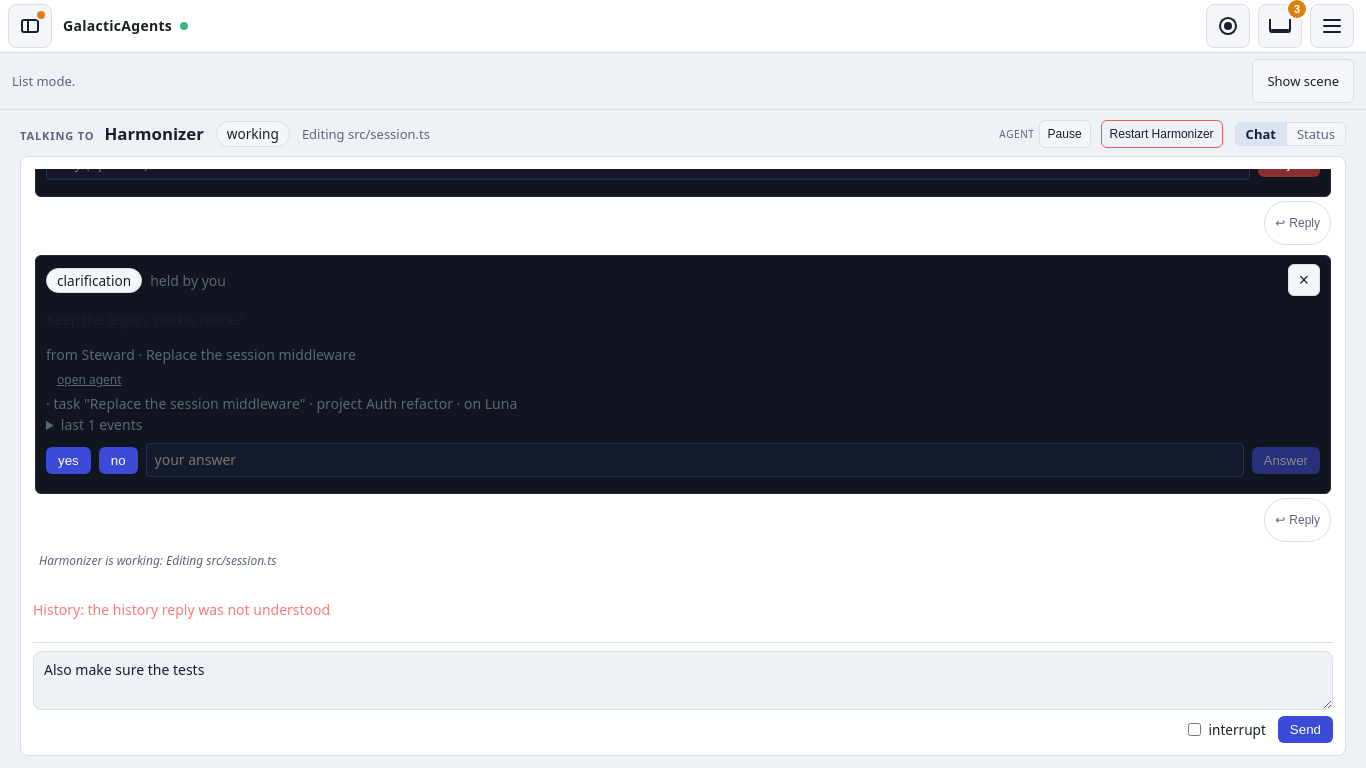
Test: one screen at a time on a phone (P8-18) › the managed-agents view lists the cards
(page scrolled)
Click the button named "Managed agents".
click(1228, 26)  # box [1206,4,1250,48]
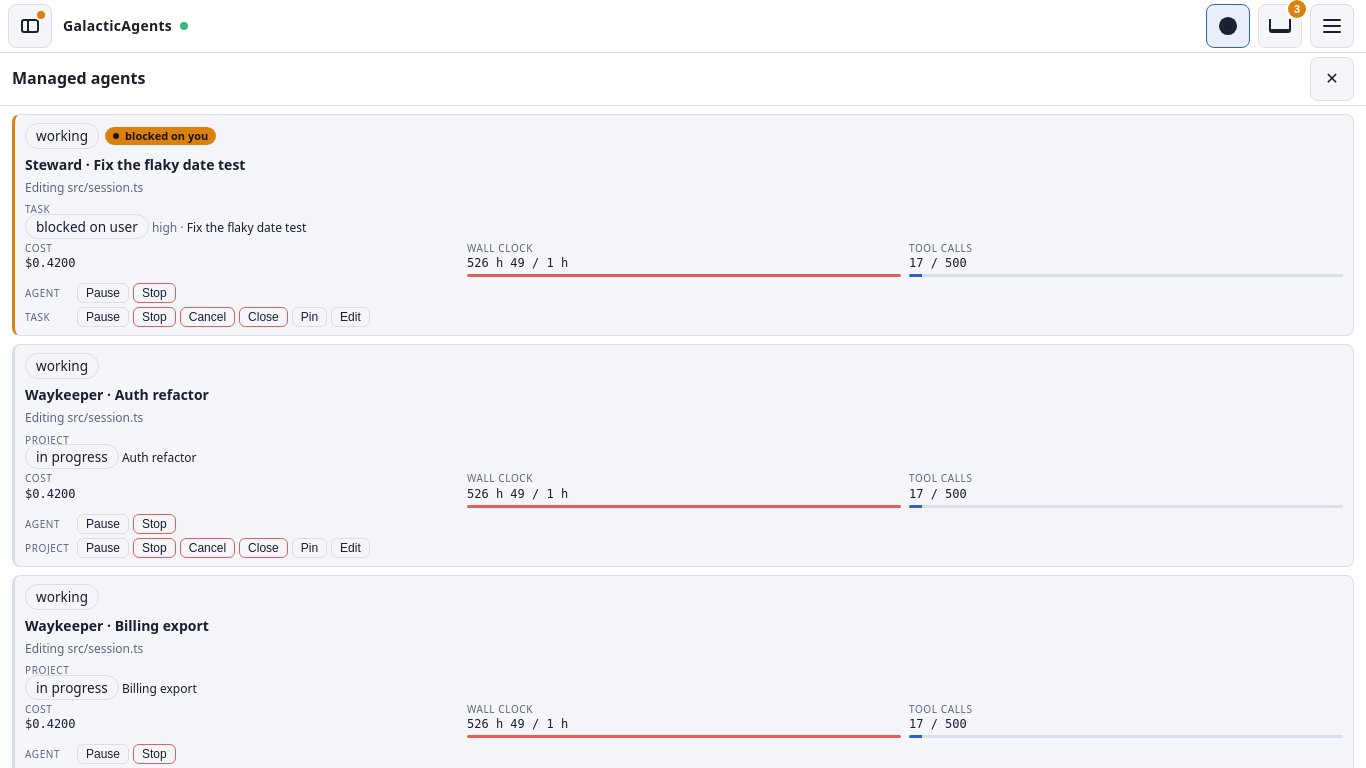
Expected: the heading "Managed agents" is shown, [12,67,146,89]
Expected: the element with class "agc" that starts with "working" is shown, [12,114,1354,336]
